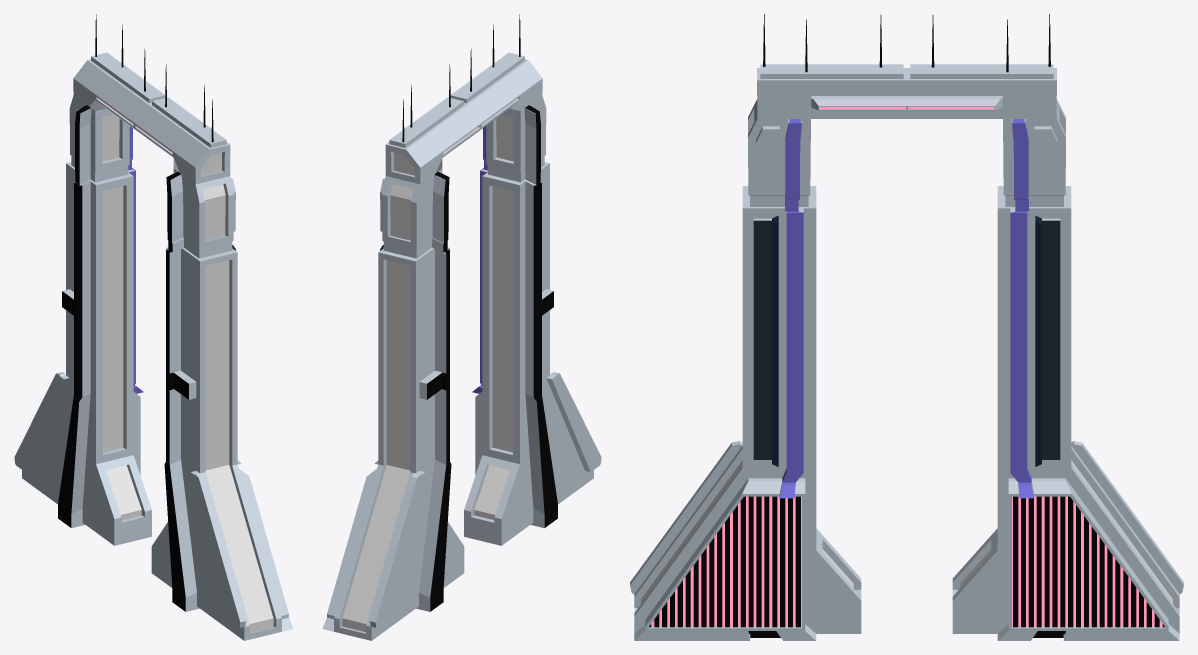
3 renders of one model, left to right at view 1: azimuth 30°, elevation 25°; view 2: azimuth 150°, elevation 25°; view 3: azimuth 270°, elevation 25°, orthographic. The views are drawn at different scales.
Visible parts, largest first — view 1: cb5_mesh; view 2: cb5_mesh; view 3: cb5_mesh.
Part boxes in pixels (box(x1,y1,x2,y2)): cb5_mesh: box(14, 14, 293, 640); cb5_mesh: box(322, 14, 601, 640); cb5_mesh: box(630, 14, 1183, 640).
Size of the model in its own units: 7605 by 53496 by 43755.
